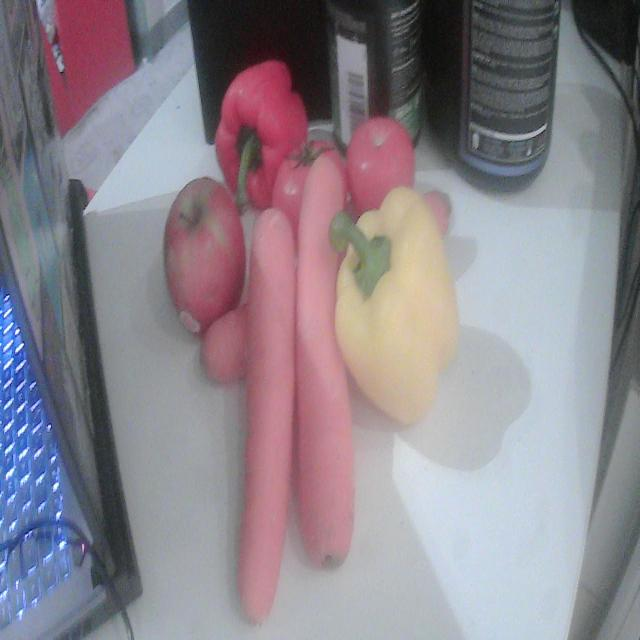Apple: (164, 178, 246, 335)
Bell Pepper: (331, 187, 458, 425), (216, 60, 308, 210)
Carrot: (238, 209, 296, 622), (296, 156, 354, 565)
Tomato: (271, 139, 345, 239), (344, 117, 414, 216)
